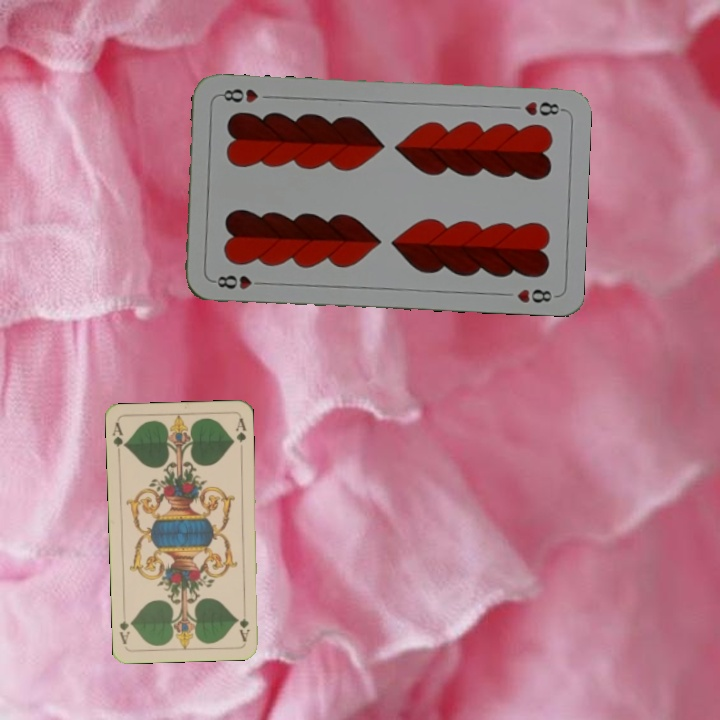GA: (109, 418, 129, 459), (235, 603, 252, 644)
H8: (209, 271, 268, 292), (520, 97, 565, 118)
